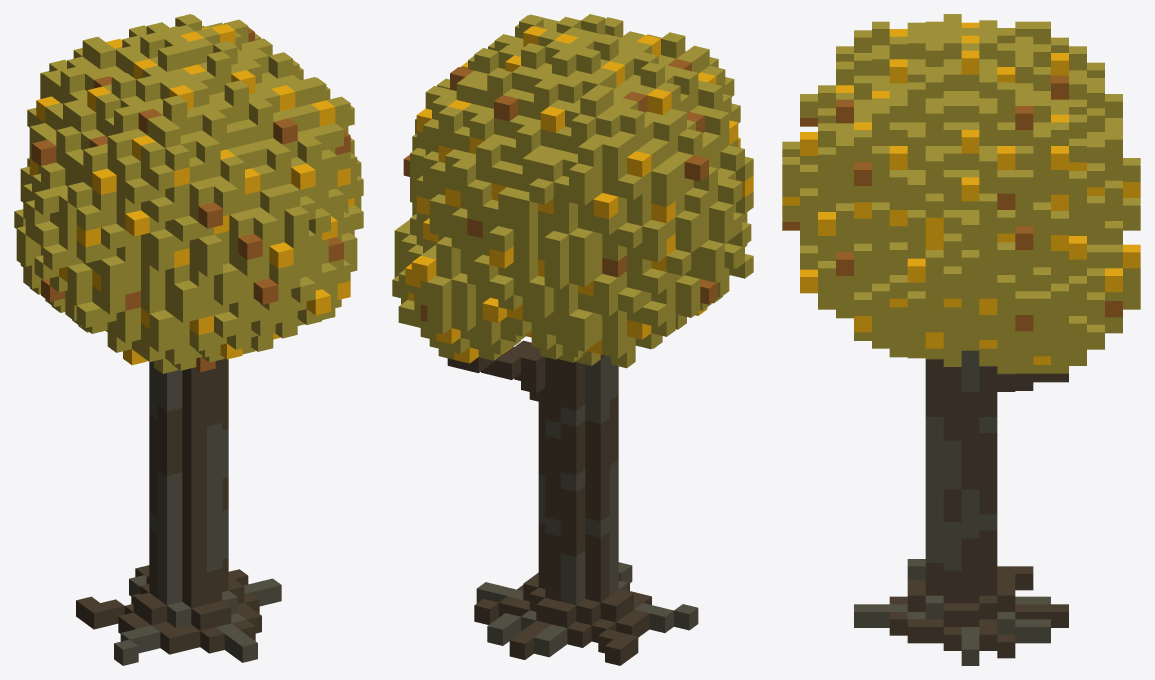
The model's file is tree_big_autumn_1.obj.
3 views of the same model, side by side, from view 1: azimuth 30°, elevation 25°; view 2: azimuth 150°, elevation 25°; view 3: azimuth 270°, elevation 25° (orthographic).
Size of the model in its own units: 2 by 3.6 by 2.
1 material, 1 textured.
